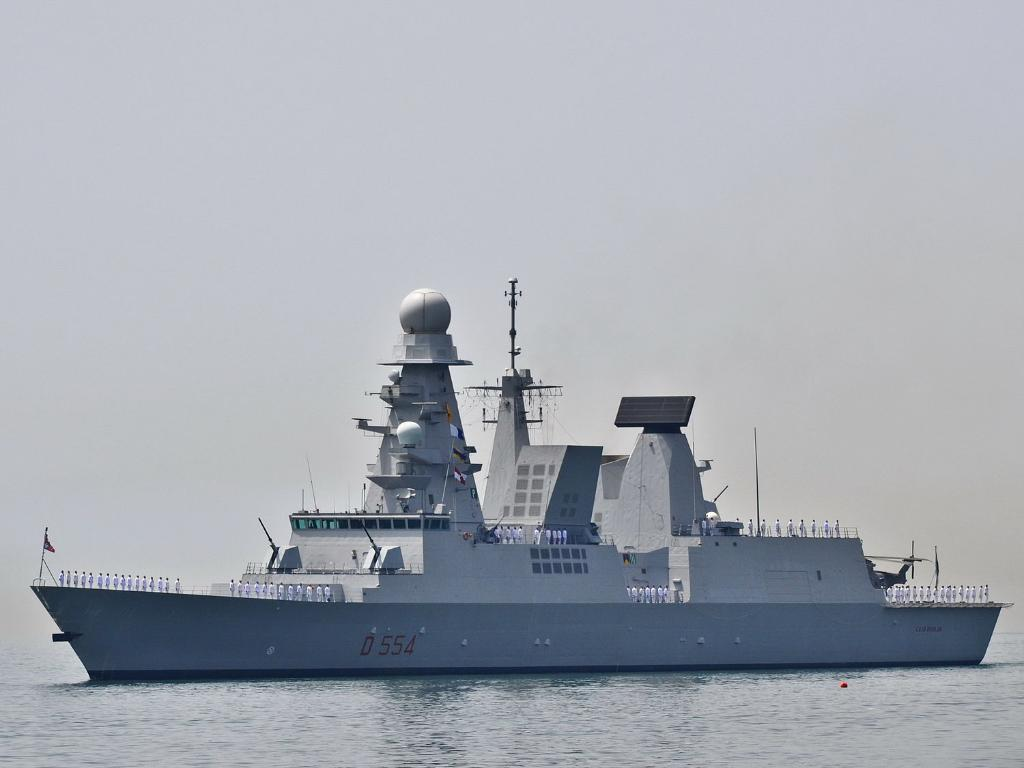Warship: (16, 268, 1010, 690)
